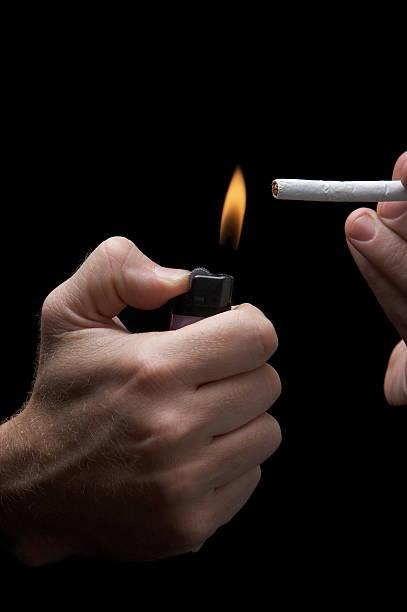Fire: (213, 158, 249, 270)
